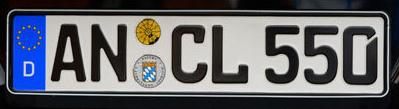0: (342, 23, 380, 87)
5: (262, 22, 301, 85), (303, 21, 340, 86)
A: (50, 20, 88, 84)
C: (169, 22, 209, 85)
L: (209, 22, 250, 86)
N: (88, 21, 130, 83)
